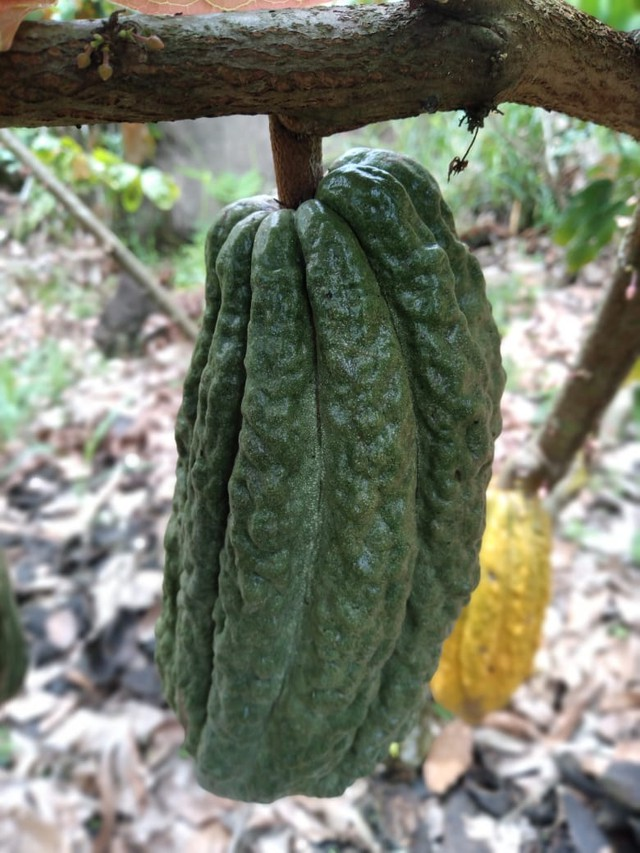Health: (143, 130, 516, 821)
